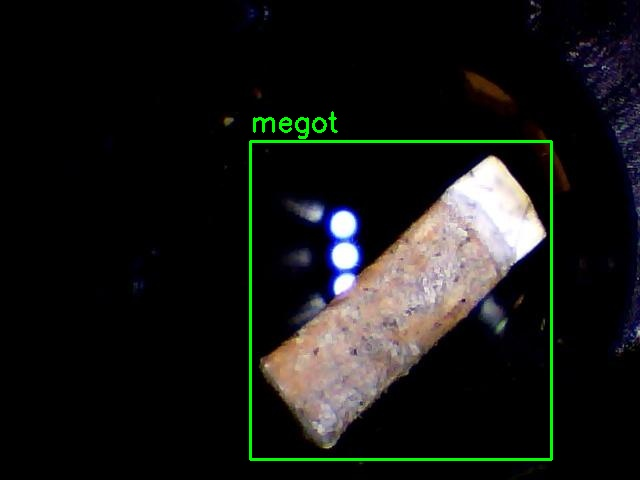megot: (250, 141, 551, 459)
